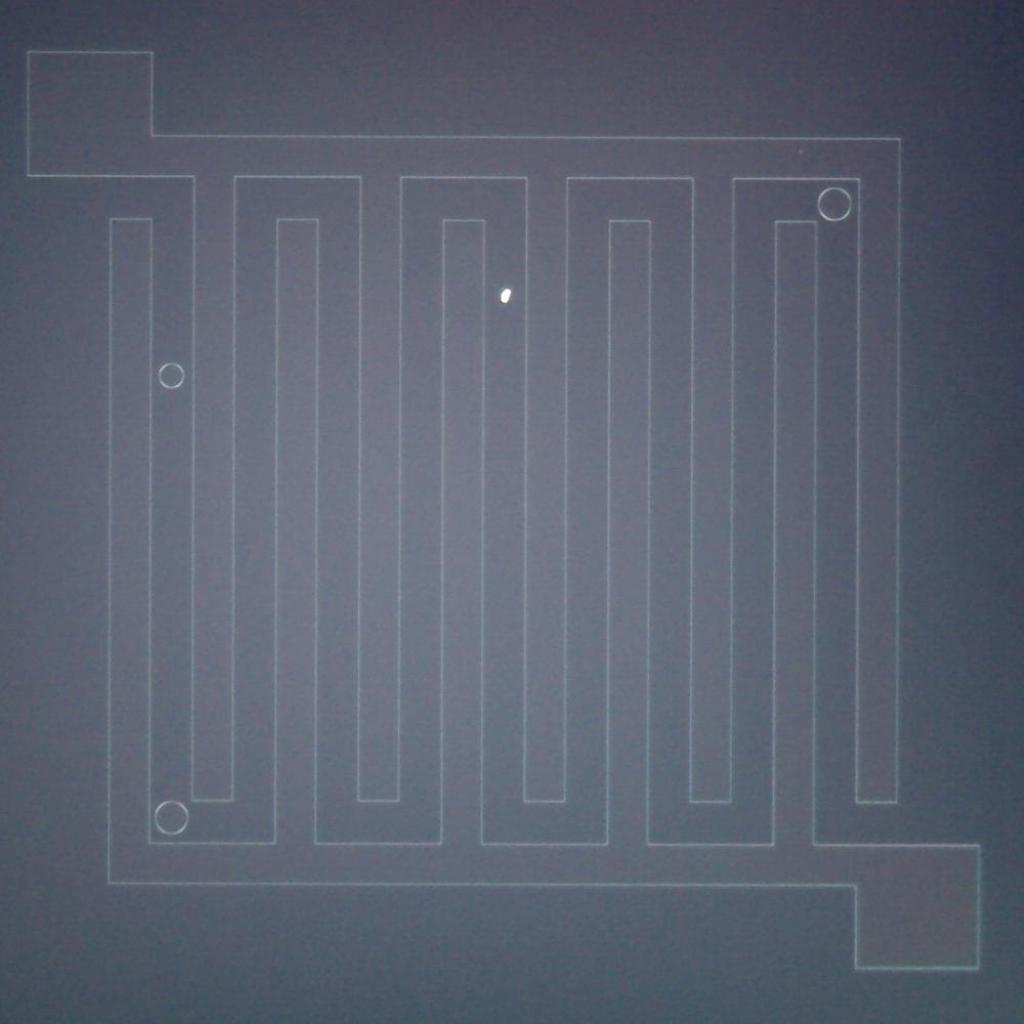dot: (498, 289, 513, 304)
